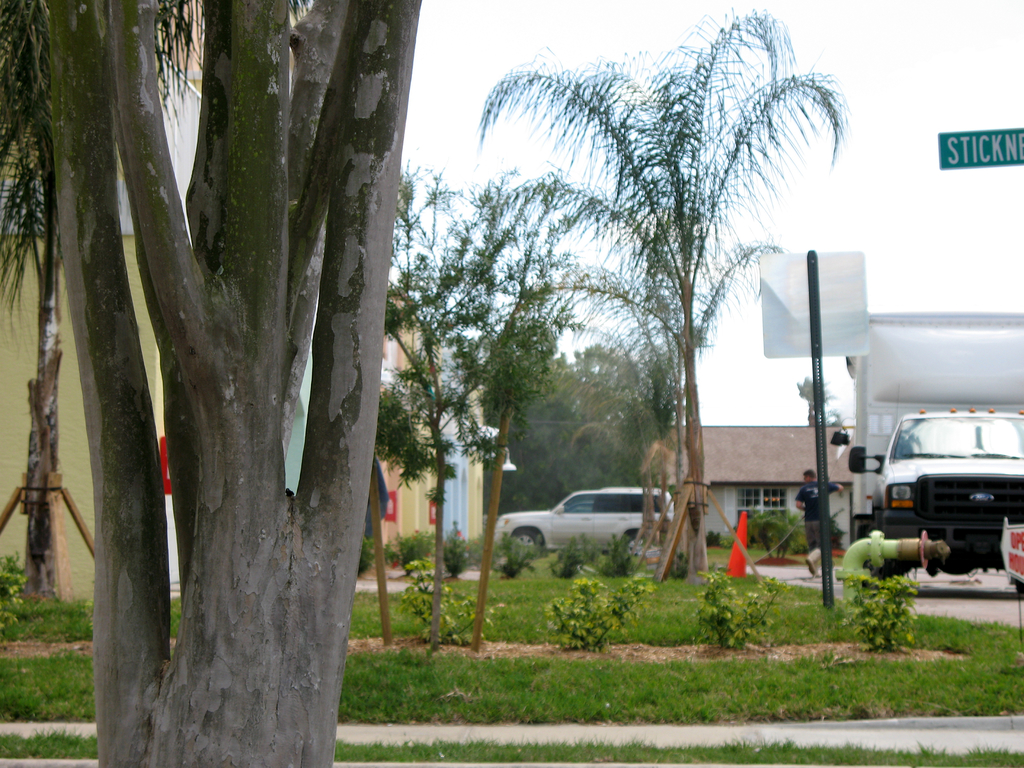Car: (491, 485, 673, 563)
